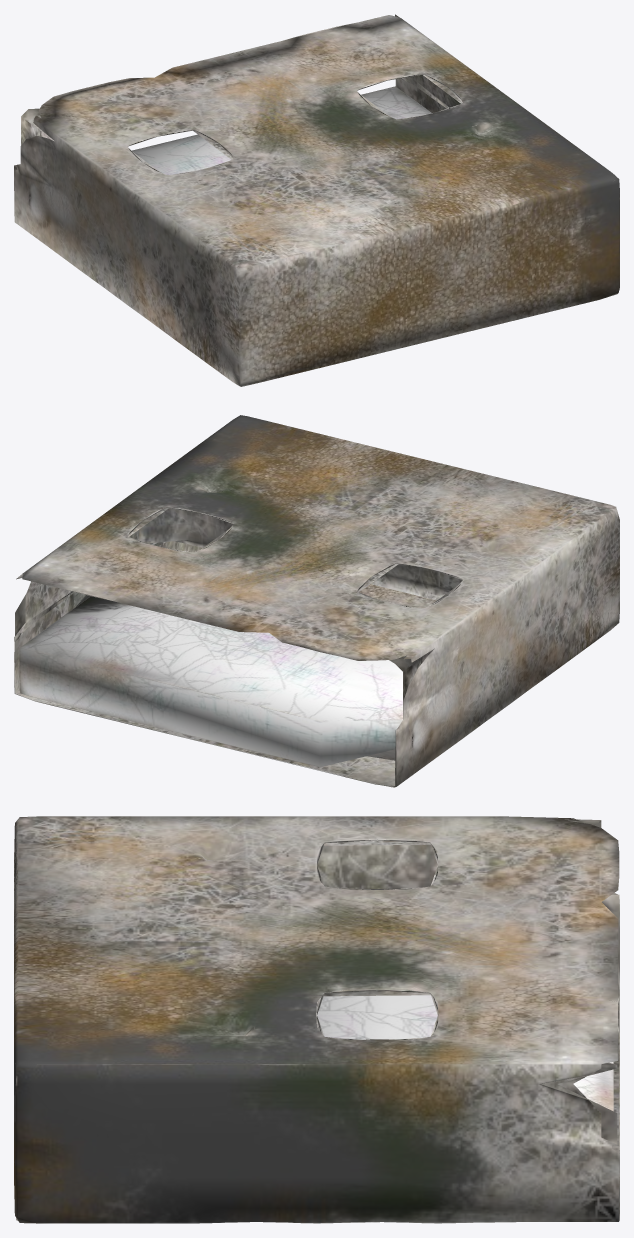
The model's file is usb.glb.
3 renders of one model, top to bottom at view 1: azimuth 30°, elevation 25°; view 2: azimuth 150°, elevation 25°; view 3: azimuth 270°, elevation 25°, orthographic. The views are drawn at different scales.
Visible parts, largest first — view 1: Box002; view 2: Box002; view 3: Box002.
Part boxes in pixels (x1,y1,x2,y2): Box002: (14,14,619,386); Box002: (14,415,619,787); Box002: (14,816,619,1223).
Bounding box in the file's own units: 3.96 × 1.18 × 4.04.
1 material, 1 textured.
